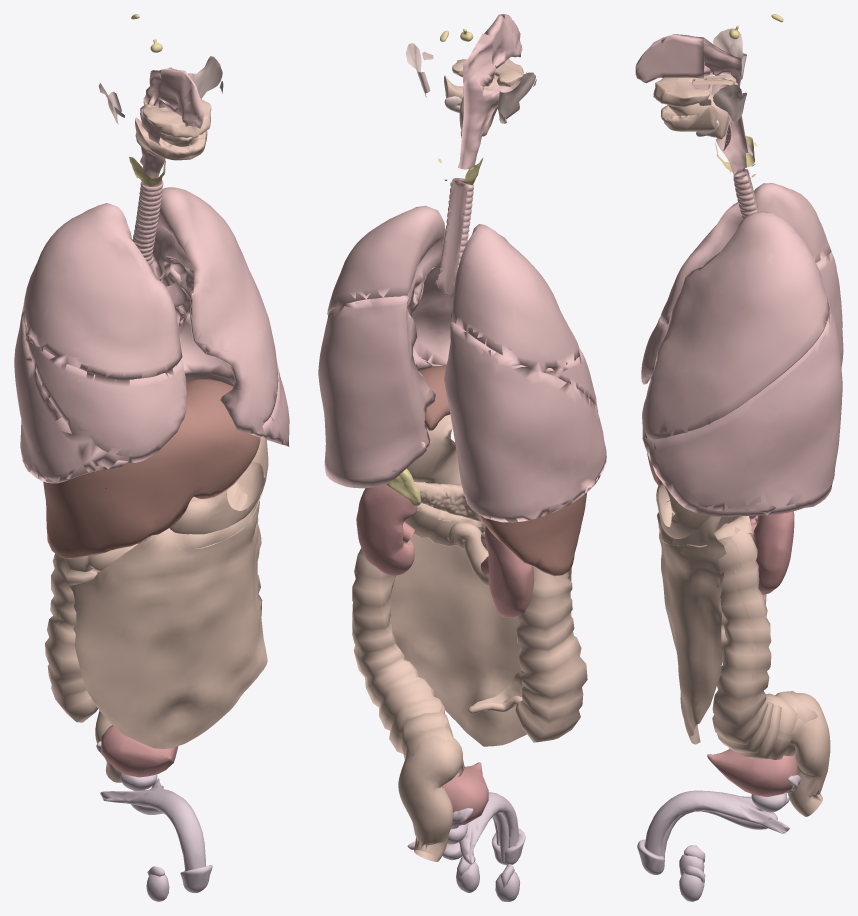
The model's file is viscera-v1.glb.
The picture shows the model from 3 angles, left to right: view 1: azimuth 30°, elevation 25°; view 2: azimuth 150°, elevation 25°; view 3: azimuth 270°, elevation 25°; orthographic projection. The views are drawn at different scales.
Parts seen in each view (by area): view 1: mesentery_omentum, pleura, liver, right_lung, left_lung, colon, penis, stomach, gingiva, urinary_bladder, nasal_mucosa, trachea (+2 smaller); view 2: pleura, colon, mesentery_omentum, right_lung, left_lung, kidneys, liver, pharynx, penis, trachea, stomach, urinary_bladder (+8 smaller); view 3: pleura, left_lung, colon, mesentery_omentum, penis, right_lung, urinary_bladder, nasal_mucosa, kidneys, gingiva, pharynx, salivary_glands (+5 smaller).
Part boxes in pixels (left/top/right/bottom): mesentery_omentum: left=51, top=488, right=267, bottom=748; pleura: left=14, top=187, right=289, bottom=482; liver: left=43, top=379, right=260, bottom=558; right_lung: left=14, top=203, right=186, bottom=483; left_lung: left=150, top=187, right=289, bottom=446; colon: left=45, top=482, right=262, bottom=782; penis: left=100, top=778, right=212, bottom=892; stomach: left=169, top=438, right=268, bottom=534; gingiva: left=135, top=98, right=211, bottom=160; urinary_bladder: left=101, top=725, right=178, bottom=777; nasal_mucosa: left=158, top=67, right=204, bottom=128; trachea: left=132, top=177, right=163, bottom=265; pleura: left=318, top=205, right=606, bottom=522; colon: left=352, top=503, right=587, bottom=861; mesentery_omentum: left=353, top=507, right=574, bottom=774; right_lung: left=444, top=224, right=606, bottom=522; left_lung: left=319, top=206, right=453, bottom=488; kidneys: left=356, top=484, right=534, bottom=617; liver: left=419, top=365, right=586, bottom=576; pharynx: left=457, top=33, right=526, bottom=184; penis: left=407, top=792, right=525, bottom=865; trachea: left=434, top=178, right=473, bottom=296; stomach: left=407, top=414, right=461, bottom=485; urinary_bladder: left=442, top=762, right=488, bottom=824; pleura: left=641, top=183, right=843, bottom=514; left_lung: left=642, top=212, right=842, bottom=517; colon: left=658, top=516, right=830, bottom=816; mesentery_omentum: left=657, top=500, right=792, bottom=744; penis: left=637, top=790, right=789, bottom=874; right_lung: left=641, top=184, right=843, bottom=382; urinary_bladder: left=707, top=749, right=797, bottom=797; nasal_mucosa: left=635, top=34, right=710, bottom=83; kidneys: left=748, top=511, right=794, bottom=594; gingiva: left=653, top=74, right=717, bottom=131; pharynx: left=692, top=37, right=752, bottom=174; salivary_glands: left=696, top=28, right=746, bottom=136.
Size of the model in its own units: 0.2618 by 0.8933 by 0.192.
